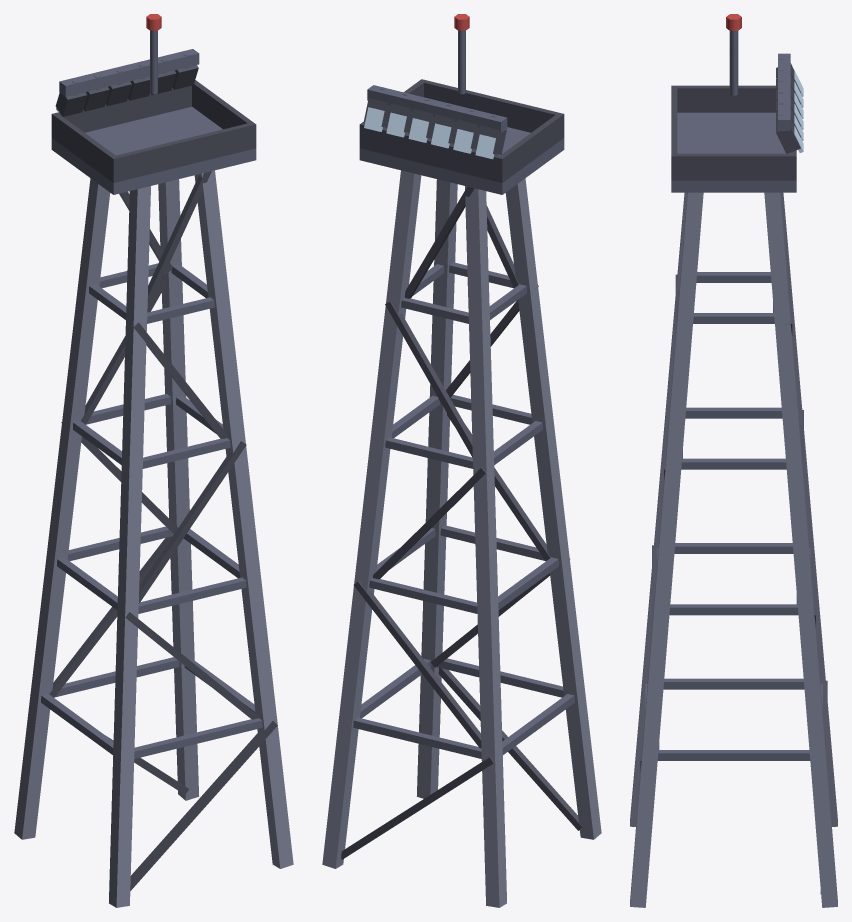
File: mat-eclairage.glb
3 views of the same model, side by side, from view 1: azimuth 30°, elevation 25°; view 2: azimuth 150°, elevation 25°; view 3: azimuth 270°, elevation 25° (orthographic).
Visible parts, largest first — view 1: jambe-2, jambe-3, jambe-0, jambe-1, plateforme, garde-corps-1, garde-corps-0, rampe-projecteurs, croisillon-0-1, garde-corps-lat-0, croisillon-2-1, ceinture-n-0 (+18 smaller); view 2: jambe-0, jambe-1, jambe-2, jambe-3, garde-corps-0, plateforme, garde-corps-1, croisillon-1-0, rampe-projecteurs, garde-corps-lat-0, croisillon-0-1, croisillon-3-0 (+19 smaller); view 3: jambe-3, jambe-1, plateforme, garde-corps-lat-1, jambe-2, jambe-0, garde-corps-lat-0, ceinture-o-0, ceinture-e-0, ceinture-e-1, ceinture-o-1, ceinture-e-2 (+7 smaller).
Boxes of the visible parts, x1=… form: jambe-2: x1=109, y1=186, x2=150, y2=907; jambe-3: x1=194, y1=170, x2=293, y2=868; jambe-0: x1=14, y1=178, x2=110, y2=839; jambe-1: x1=158, y1=179, x2=199, y2=800; plateforme: x1=51, y1=106, x2=256, y2=194; garde-corps-1: x1=110, y1=122, x2=256, y2=182; garde-corps-0: x1=51, y1=80, x2=196, y2=138; rampe-projecteurs: x1=59, y1=49, x2=199, y2=96; croisillon-0-1: x1=130, y1=721, x2=277, y2=890; garde-corps-lat-0: x1=51, y1=113, x2=118, y2=182; croisillon-2-1: x1=138, y1=441, x2=246, y2=603; ceinture-n-0: x1=134, y1=718, x2=262, y2=758; jambe-0: x1=465, y1=186, x2=506, y2=907; jambe-1: x1=322, y1=170, x2=421, y2=868; jambe-2: x1=505, y1=178, x2=601, y2=839; jambe-3: x1=416, y1=179, x2=457, y2=798; garde-corps-0: x1=359, y1=122, x2=505, y2=182; plateforme: x1=359, y1=127, x2=564, y2=194; garde-corps-1: x1=420, y1=79, x2=564, y2=139; croisillon-1-0: x1=353, y1=581, x2=481, y2=748; rampe-projecteurs: x1=367, y1=85, x2=507, y2=132; garde-corps-lat-0: x1=497, y1=113, x2=563, y2=182; croisillon-0-1: x1=438, y1=667, x2=582, y2=830; croisillon-3-0: x1=385, y1=301, x2=472, y2=457; jambe-3: x1=630, y1=192, x2=703, y2=907; jambe-1: x1=764, y1=192, x2=837, y2=907; plateforme: x1=671, y1=112, x2=796, y2=192; garde-corps-lat-1: x1=671, y1=153, x2=796, y2=180; jambe-2: x1=630, y1=192, x2=687, y2=826; jambe-0: x1=780, y1=192, x2=837, y2=826; garde-corps-lat-0: x1=671, y1=85, x2=776, y2=112; ceinture-o-0: x1=663, y1=678, x2=804, y2=689; ceinture-e-0: x1=657, y1=750, x2=810, y2=760; ceinture-e-1: x1=669, y1=604, x2=798, y2=615; ceinture-o-1: x1=674, y1=543, x2=793, y2=553; ceinture-e-2: x1=681, y1=458, x2=786, y2=469.
Size of the model in its own units: 0.2 by 0.9 by 0.2.
